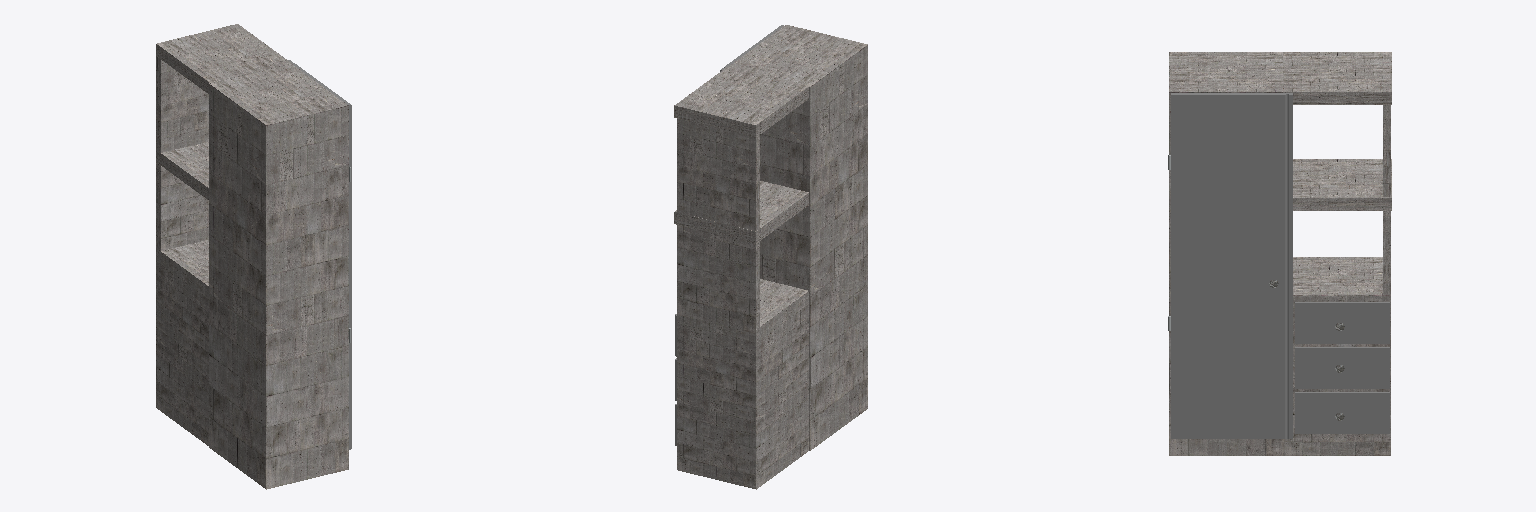
3 renders of one model, left to right at view 1: azimuth 30°, elevation 25°; view 2: azimuth 150°, elevation 25°; view 3: azimuth 270°, elevation 25°, orthographic.
Visible parts, largest first — view 1: Box001, Box002, Box003, Box004, Box005, Component_18_001; view 2: Box001, Box002, Box003, Box004, Box005; view 3: Component_18_001, Box002, Box001, Box004, Box005, Box007, Box008, Box006, Box003.
Boxes of the visible parts, x1=… form: Box001: x1=209, y1=64, x2=348, y2=489; Box002: x1=156, y1=240, x2=208, y2=445; Box003: x1=156, y1=56, x2=208, y2=250; Box004: x1=156, y1=24, x2=291, y2=93; Box005: x1=156, y1=141, x2=208, y2=199; Component_18_001: x1=288, y1=60, x2=351, y2=449; Box001: x1=730, y1=25, x2=867, y2=450; Box002: x1=677, y1=279, x2=808, y2=489; Box003: x1=677, y1=119, x2=759, y2=333; Box004: x1=674, y1=66, x2=808, y2=137; Box005: x1=674, y1=181, x2=808, y2=243; Component_18_001: x1=1171, y1=93, x2=1292, y2=438; Box002: x1=1285, y1=257, x2=1390, y2=455; Box001: x1=1169, y1=52, x2=1284, y2=455; Box004: x1=1283, y1=52, x2=1391, y2=104; Box005: x1=1293, y1=159, x2=1391, y2=210; Box007: x1=1295, y1=347, x2=1389, y2=388; Box008: x1=1295, y1=392, x2=1389, y2=433; Box006: x1=1295, y1=302, x2=1389, y2=343; Box003: x1=1383, y1=105, x2=1390, y2=294.
Bounding box in the file's own units: 10.99 × 42.6 × 23.68.
Materials: 4 (2 with a texture image).